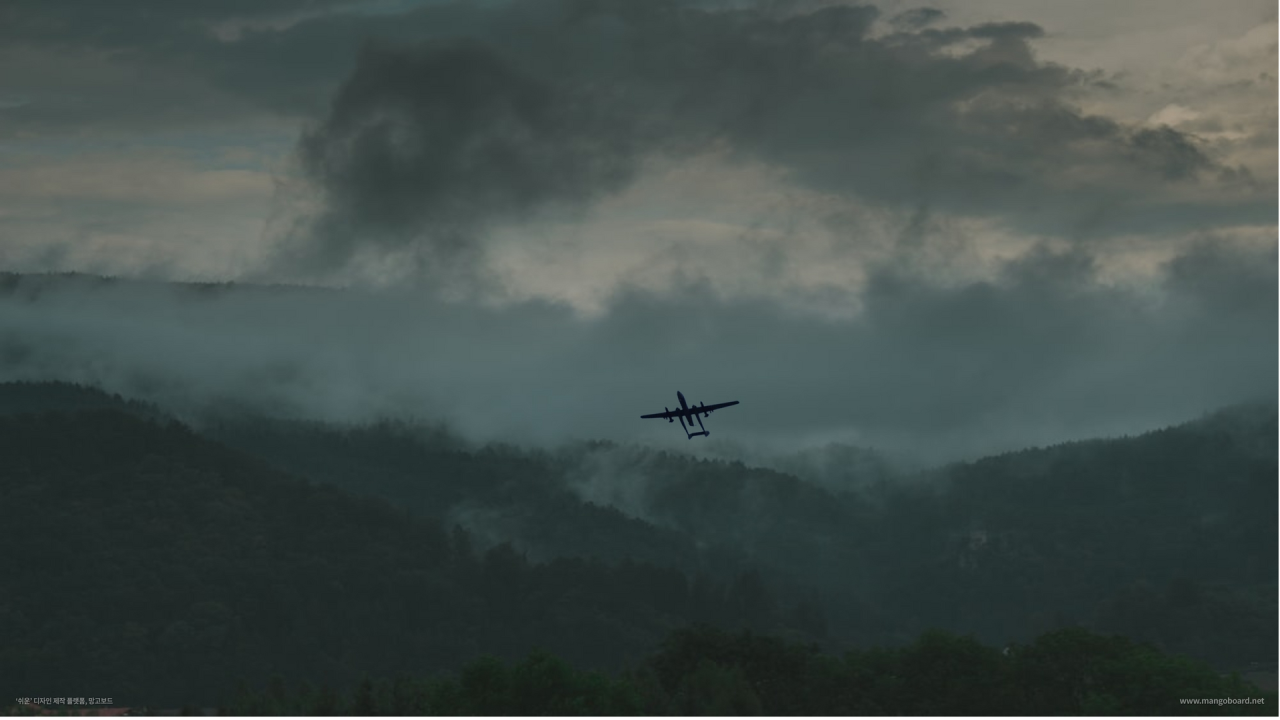military drone: (639, 389, 739, 439)
